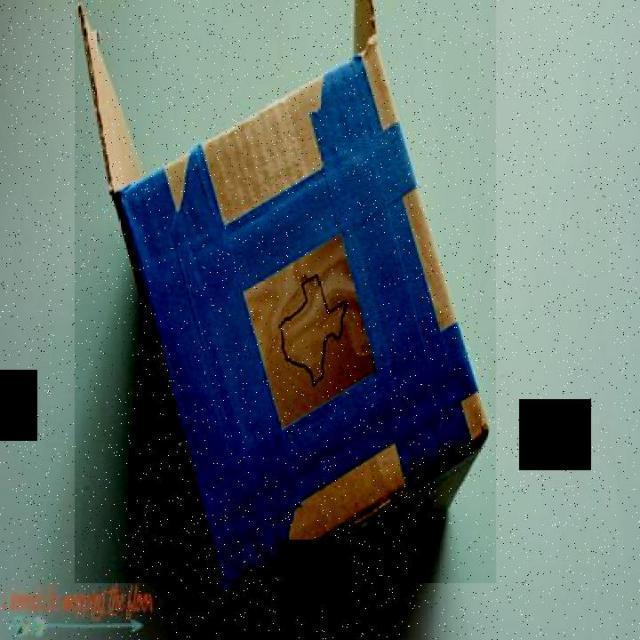box: (74, 0, 497, 583)
